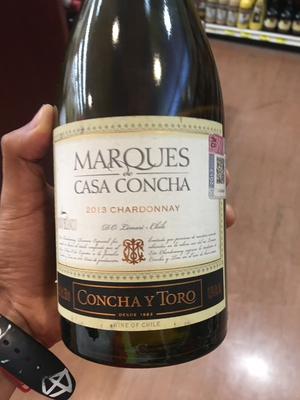marques de casa concha chardonnay: (42, 29, 255, 367)
